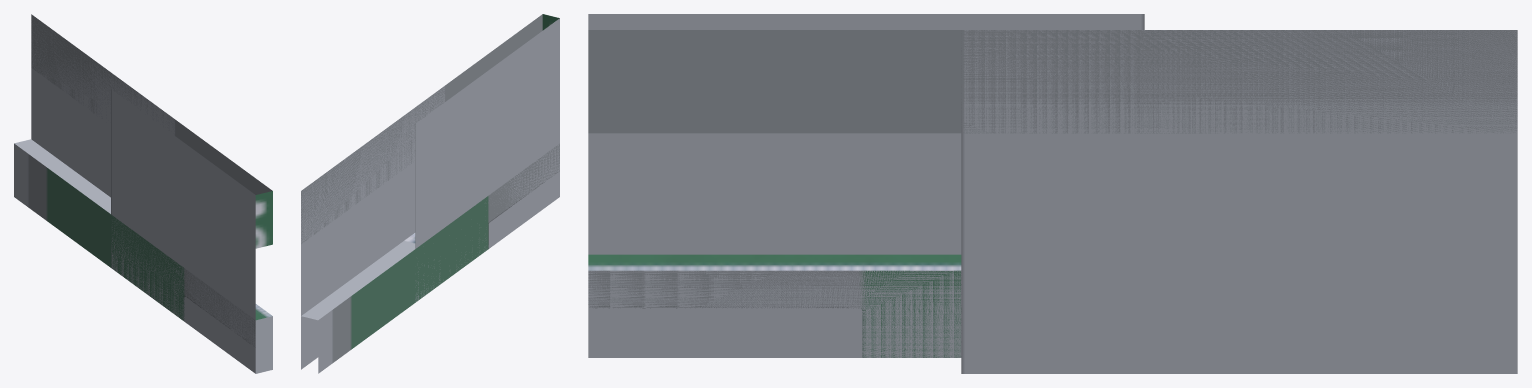
The model's file is section-1.obj.
The picture shows the model from 3 angles, left to right: view 1: azimuth 30°, elevation 25°; view 2: azimuth 150°, elevation 25°; view 3: azimuth 270°, elevation 25°; orthographic projection. The views are drawn at different scales.
Bounding box in the file's own units: 0.1 × 1 × 2.45.
